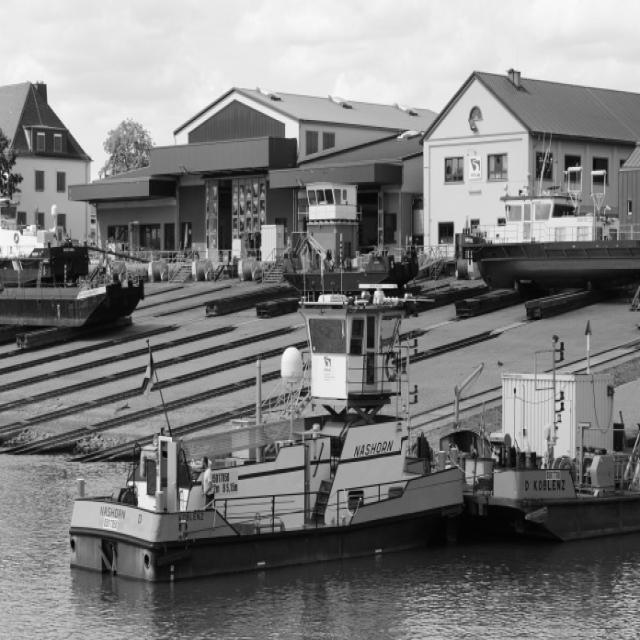tugboat: (67, 278, 478, 600)
